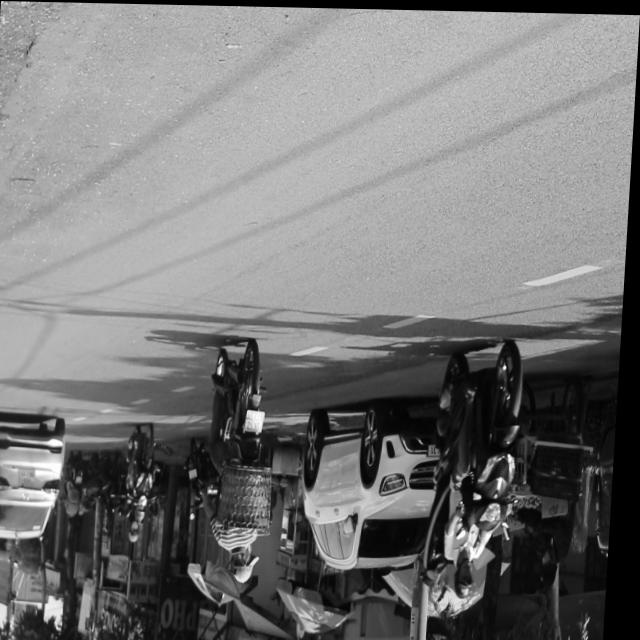helmet: (459, 555, 483, 597)
licenseplate: (430, 335, 534, 601), (203, 338, 282, 585)
motorcyclist: (235, 540, 264, 583)
nohelmet: (248, 407, 269, 432)
